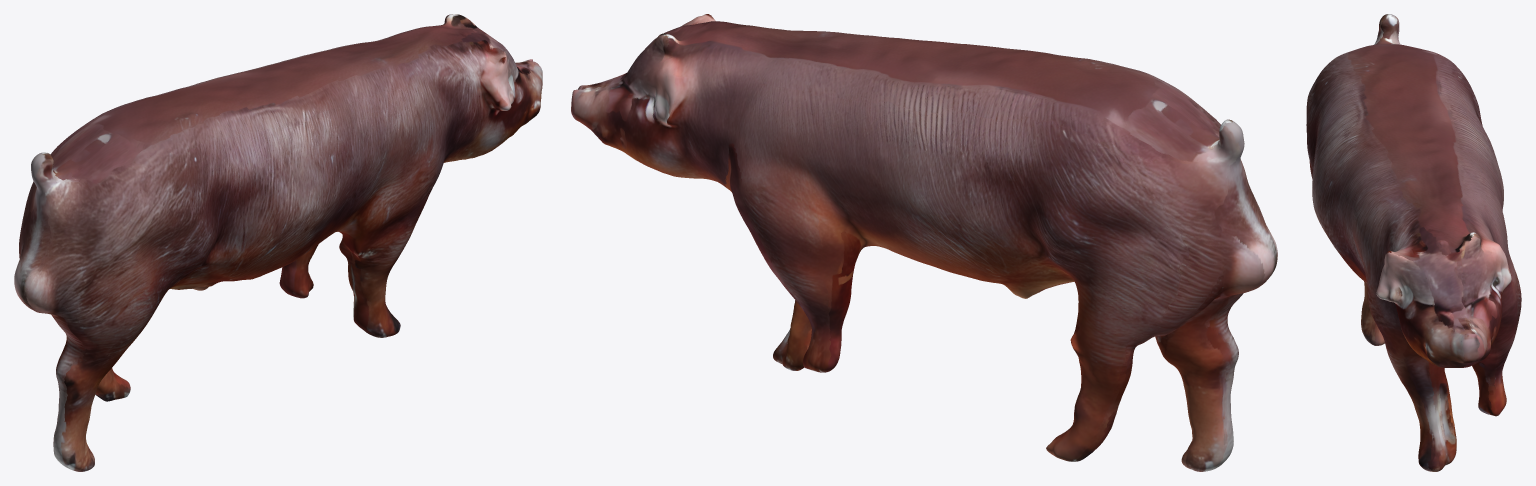
The model's file is joven.glb.
3 views of the same model, side by side, from view 1: azimuth 30°, elevation 25°; view 2: azimuth 150°, elevation 25°; view 3: azimuth 270°, elevation 25° (orthographic). The views are drawn at different scales.
Visible parts, largest first — view 1: mesh; view 2: mesh; view 3: mesh.
Boxes of the visible parts, x1,y1,x2,y2 form: mesh: (14,14,542,471); mesh: (571,14,1277,471); mesh: (1306,14,1521,471).
Bounding box in the file's own units: 1.91 × 1.07 × 0.6396.
Materials: 1 (1 with a texture image).
